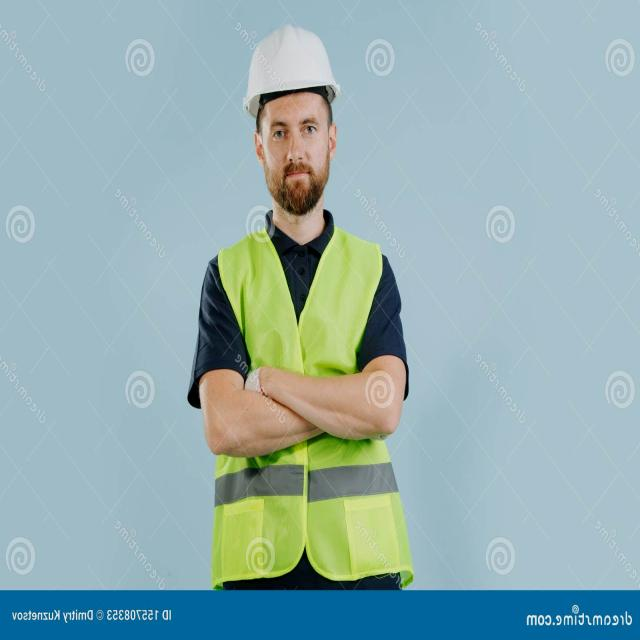helmet: (244, 22, 338, 114)
no-goggles: (252, 100, 338, 154)
vest: (215, 220, 396, 582)
